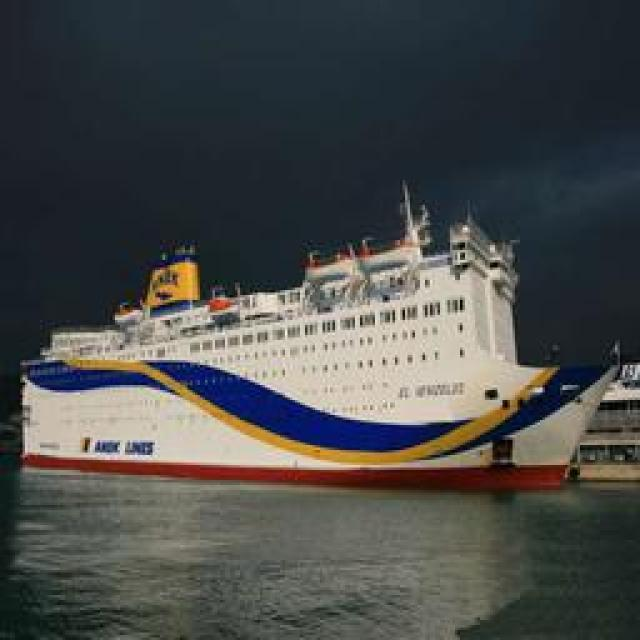ship2: (19, 183, 625, 494)
